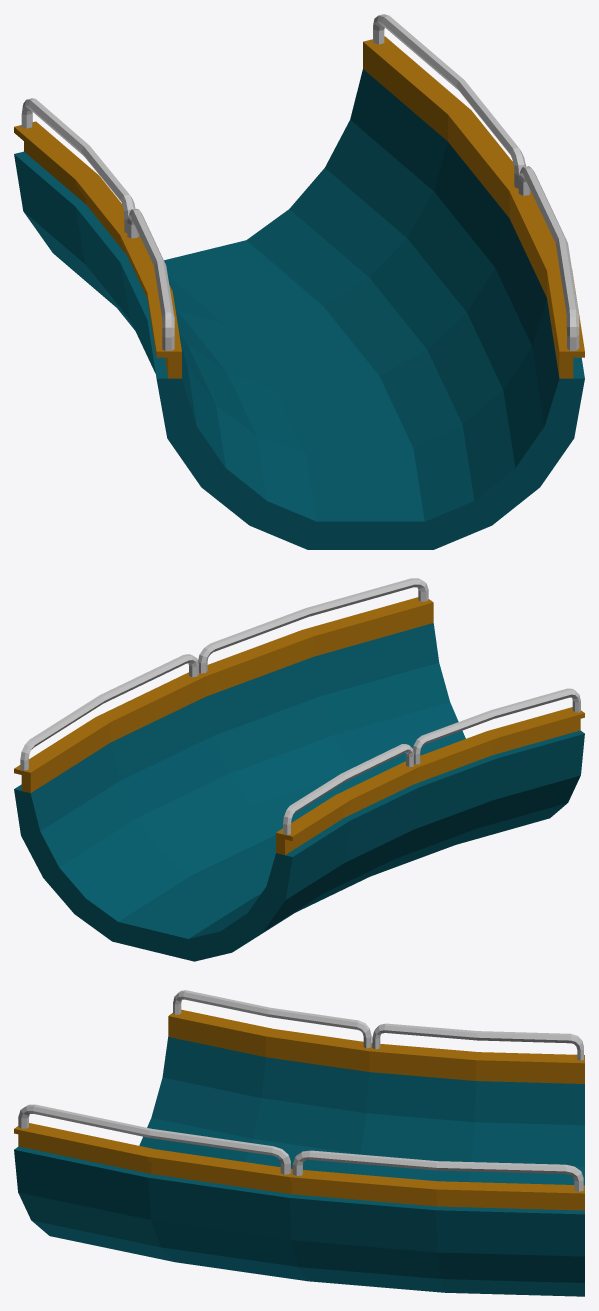
File: halfpipe-curveRight-30_s.FBX
3 views of the same model, one above another, from view 1: azimuth 30°, elevation 25°; view 2: azimuth 150°, elevation 25°; view 3: azimuth 270°, elevation 25° (orthographic). The views are drawn at different scales.
Visible parts, largest first — view 1: halfpipe-curveRight-30_s, wall_l, wall_r; view 2: halfpipe-curveRight-30_s, wall_l, wall_r; view 3: halfpipe-curveRight-30_s, wall_l, wall_r.
Boxes of the visible parts, x1,y1,x2,y2 form: halfpipe-curveRight-30_s: [14, 69, 584, 549]; wall_l: [363, 14, 584, 378]; wall_r: [14, 98, 181, 378]; halfpipe-curveRight-30_s: [14, 623, 584, 961]; wall_l: [14, 578, 433, 792]; wall_r: [276, 688, 584, 855]; halfpipe-curveRight-30_s: [14, 1037, 584, 1296]; wall_l: [14, 1104, 584, 1210]; wall_r: [168, 990, 584, 1083].
Size of what is drawn, in the model's own units: 171 by 223 by 75.73.
